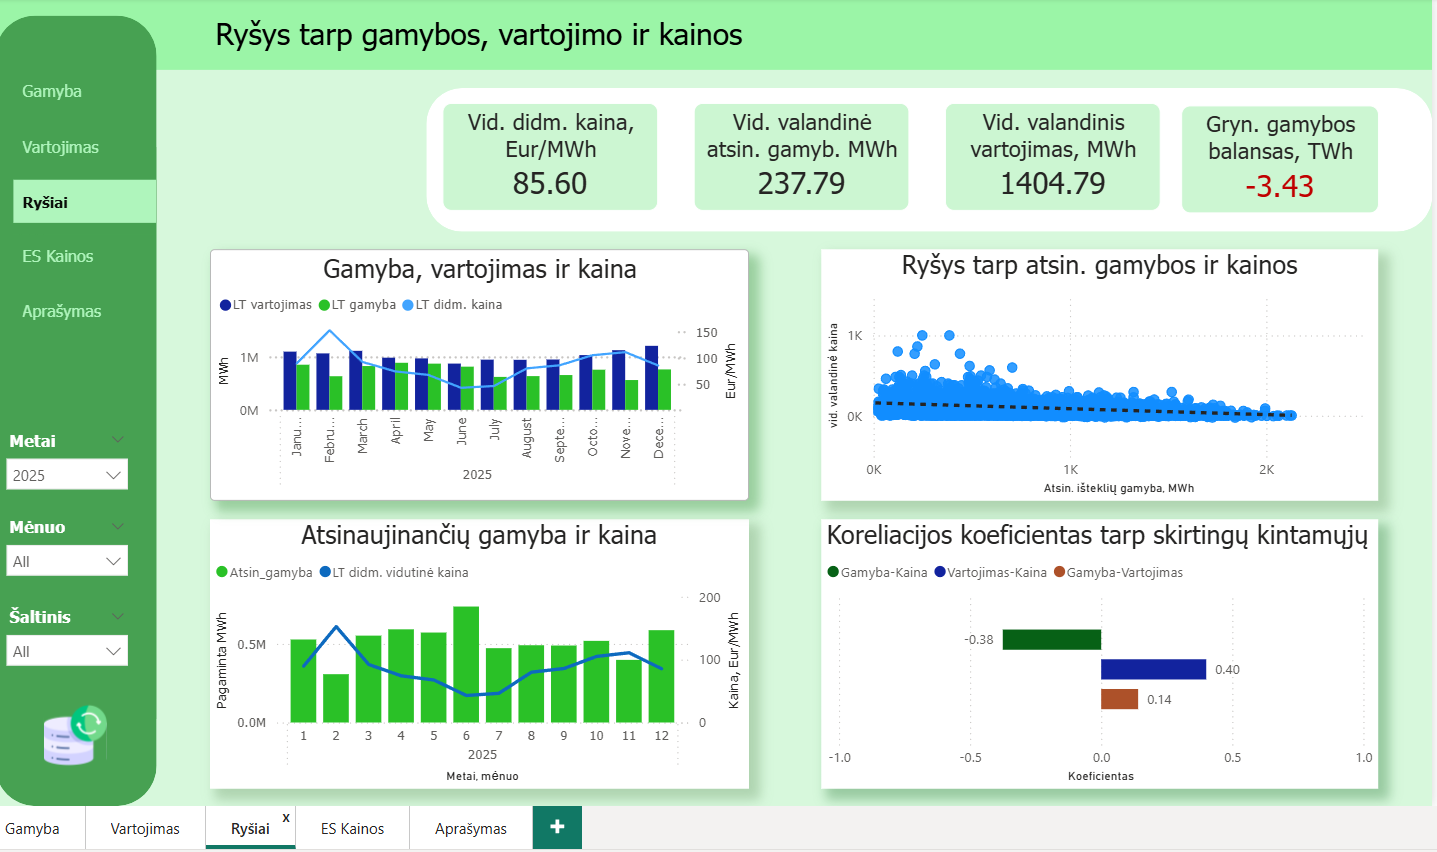

The page's visual inventory and layout, read from the dashboard file:
{"tool":"powerbi","page":{"name":"Ryšiai","canvas":[1280,720],"ordinal":2},"visuals":[{"type":"textbox","title":"Eelektros energija: gamyba, kainos, šaltiniai","box":[0,0,1280,64],"z":0},{"type":"shape","box":[384,80,896,128],"z":1000},{"type":"shape","box":[0,16,144,704],"z":2000},{"type":"actionButton","box":[16,624,112,64],"z":3000},{"type":"slicer","title":"Metai","fields":{"Values":["DimSaltiniai.Saltinis"]},"box":[0,538,128,80],"z":4000},{"type":"textbox","title":"Ryšys tarp gamybos, vartojimo ir kainos","box":[192,16,576,32],"z":5000},{"type":"card","title":"Vid. didm. kaina, Eur/MWh","fields":{"Values":["Europa.Measure"]},"box":[398,93.7,192,96],"z":6000},{"type":"slicer","title":"Metai","fields":{"Values":["DimDate.Year"]},"box":[0,381,128,80],"z":7000},{"type":"card","title":"Vid. valandinė atsin. gamyb. MWh","fields":{"Values":["Gamyba_saltiniai.Vid_ATS_gamyba/h"]},"box":[622,93.7,192,96],"z":8000},{"type":"lineClusteredColumnComboChart","title":"Atsinaujinančių  gamyba ir kaina","fields":{"Y2":["Europ_kainos.LT_vid_kaina"],"Category":["DimDate.Dienos_raktas.1.Variation.Date Hierarchy.Year","DimDate.Menuo"],"Y":["Gamyba_saltiniai.Atsin_gamyba"]},"box":[192,464,480,240],"z":9000},{"type":"card","title":"Vid. valandinis vartojimas, MWh","fields":{"Values":["Avg(Bendras_vartojimas.Bendr_vartoj, MWh)"]},"box":[846,93.7,192,96],"z":10000},{"type":"scatterChart","title":"Ryšys tarp atsin. gamybos ir kainos","fields":{"X":["Gamyba_saltiniai.Atsin_gamyba"],"Y":["Europ_kainos.LT_vid_kaina"],"Category":["DimTime.utc_be hierarchijos"]},"box":[736,224,496,224],"z":11000},{"type":"lineClusteredColumnComboChart","title":"Gamyba, vartojimas ir kaina","fields":{"Y":["Sum(Bendras_vartojimas.value)","Sum(Gamyba_saltiniai.value)"],"Y2":["Europ_kainos.LT_vid_kaina"],"Category":["DimDate.Dienos_raktas.1.Variation.Date Hierarchy.Year","DimDate.Dienos_raktas.1.Variation.Date Hierarchy.Month"]},"box":[192,224,480,224],"z":12000},{"type":"card","title":"Gryn. gamybos balansas, TWh","fields":{"Values":["Gamyba_saltiniai.Balansas"]},"box":[1056,96,176,96],"z":13000},{"type":"clusteredBarChart","title":"Koreliacijos koeficientas tarp skirtingų kintamųjų","fields":{"Y":["Gamyba_saltiniai.Corr_Gam_Kaina","Gamyba_saltiniai.Corr_Vart_Kaina","Gamyba_saltiniai.Corr_Gamyba_Vart"]},"box":[736,464,496,240],"z":14000},{"type":"pageNavigator","box":[16,64,128,240],"z":15000},{"type":"slicer","fields":{"Values":["DimDate.Month Name"]},"box":[0,458,128,64],"z":16000}]}

Visuals, with their boxes on the page's 1280x720 design canvas (x1, y1, x2, y2). These are canvas units, not pixel positions in the 1437x852 screenshot, which may show the page scaled, cropped or inside an application window:
"Eelektros energija: gamyba, kainos, šaltiniai" textbox: left=0, top=0, right=1280, bottom=64
shape: left=384, top=80, right=1280, bottom=208
shape: left=0, top=16, right=144, bottom=720
actionButton: left=16, top=624, right=128, bottom=688
"Metai" slicer: left=0, top=538, right=128, bottom=618
"Ryšys tarp gamybos, vartojimo ir kainos" textbox: left=192, top=16, right=768, bottom=48
"Vid. didm. kaina, Eur/MWh" card: left=398, top=94, right=590, bottom=190
"Metai" slicer: left=0, top=381, right=128, bottom=461
"Vid. valandinė atsin. gamyb. MWh" card: left=622, top=94, right=814, bottom=190
"Atsinaujinančių  gamyba ir kaina" lineClusteredColumnComboChart: left=192, top=464, right=672, bottom=704
"Vid. valandinis vartojimas, MWh" card: left=846, top=94, right=1038, bottom=190
"Ryšys tarp atsin. gamybos ir kainos" scatterChart: left=736, top=224, right=1232, bottom=448
"Gamyba, vartojimas ir kaina" lineClusteredColumnComboChart: left=192, top=224, right=672, bottom=448
"Gryn. gamybos balansas, TWh" card: left=1056, top=96, right=1232, bottom=192
"Koreliacijos koeficientas tarp skirtingų kintamųjų" clusteredBarChart: left=736, top=464, right=1232, bottom=704
pageNavigator: left=16, top=64, right=144, bottom=304
slicer - DimDate.Month Name: left=0, top=458, right=128, bottom=522
